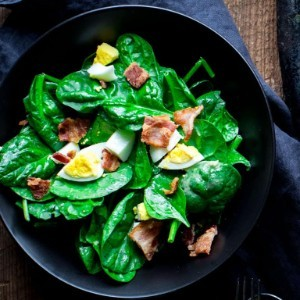spinach_brain food: (32, 64, 217, 227)
